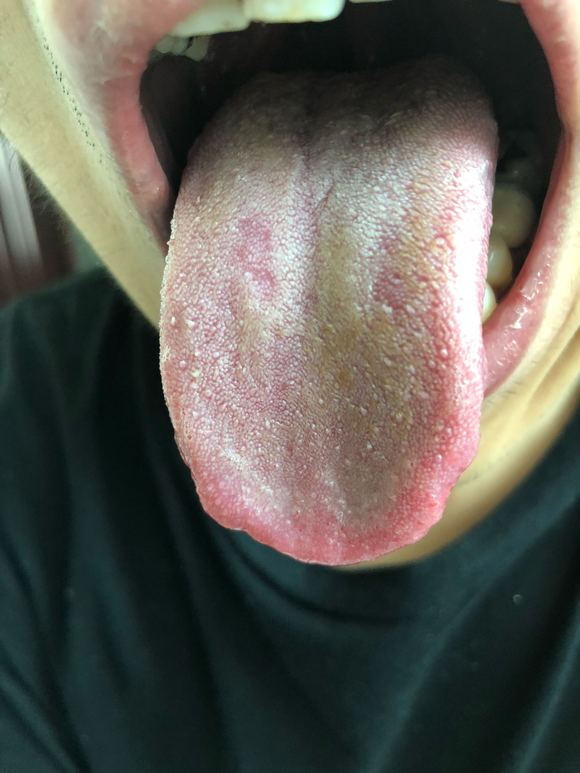hongshe: (159, 60, 497, 565)
huangtaishe: (159, 60, 497, 565)
